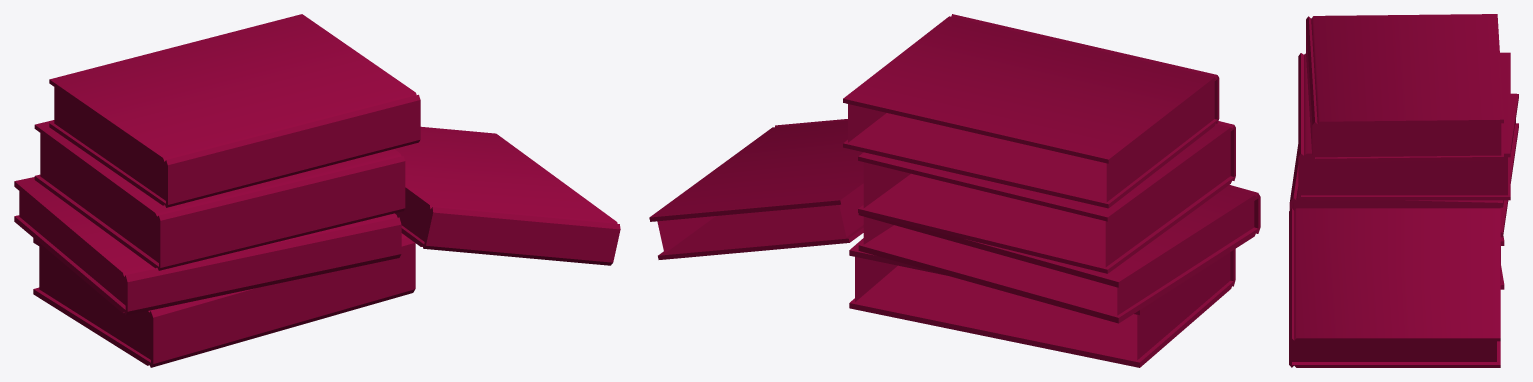
File: HalloweenRoomA_BooksM.fbx
The picture shows the model from 3 angles, left to right: view 1: azimuth 30°, elevation 25°; view 2: azimuth 150°, elevation 25°; view 3: azimuth 270°, elevation 25°; orthographic projection. The views are drawn at different scales.
Visible parts, largest first — view 1: HalloweenRoomA_BooksM; view 2: HalloweenRoomA_BooksM; view 3: HalloweenRoomA_BooksM.
Boxes of the visible parts, x1=… form: HalloweenRoomA_BooksM: x1=14, y1=14, x2=620, y2=367; HalloweenRoomA_BooksM: x1=649, y1=14, x2=1260, y2=367; HalloweenRoomA_BooksM: x1=1289, y1=14, x2=1518, y2=367.
Size of the model in its own units: 41.53 by 16.76 by 20.2.
